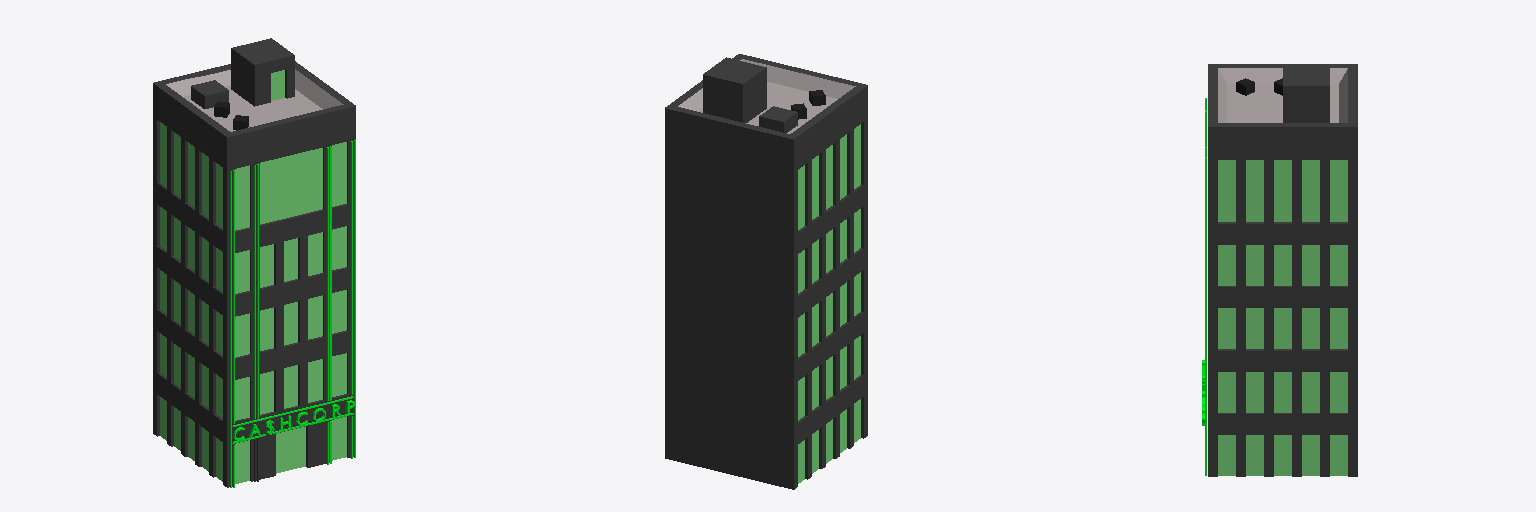
3 views of the same model, side by side, from view 1: azimuth 30°, elevation 25°; view 2: azimuth 150°, elevation 25°; view 3: azimuth 270°, elevation 25° (orthographic).
Parts seen in each view (by area): view 1: Cube.012_Cube.018; view 2: Cube.012_Cube.018; view 3: Cube.012_Cube.018.
Boxes of the visible parts, x1=… form: Cube.012_Cube.018: x1=153, y1=38, x2=355, y2=487; Cube.012_Cube.018: x1=665, y1=54, x2=867, y2=489; Cube.012_Cube.018: x1=1202, y1=64, x2=1357, y2=476.
Size of the model in its own units: 10 by 28.07 by 10.4.
Materials: 1 (1 with a texture image).